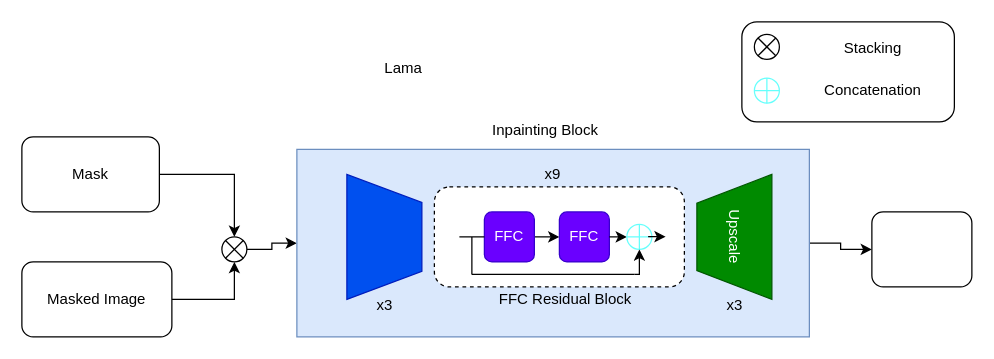
Image size: 994x359. Some labels were removed from this diagram. The box of each missing label's shape, as (x1, y1, x2, y2) in pixels:
Downscale: (346, 173, 422, 299)
Output (Inpainted Image): (871, 211, 972, 287)
